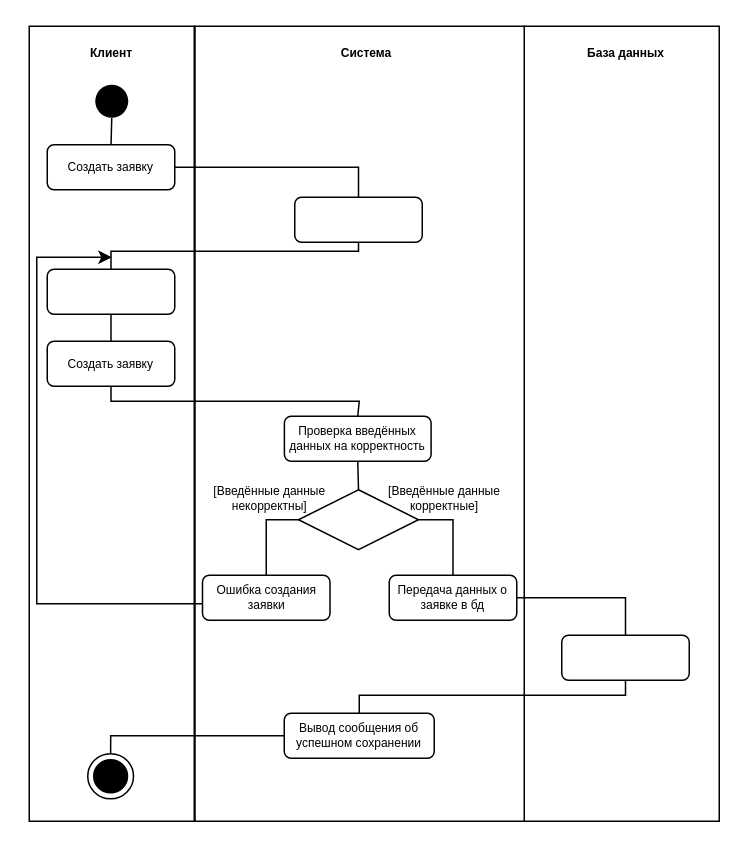
Image size: 746x848. Some labels were removed from this diagram. Each missing label, with the box of its shape:
Заполнить заявку данными: (46, 268, 175, 314)
Открыть страницу создания заявки: (293, 196, 422, 242)
Сохранение данных о создании заявки в бд: (560, 634, 689, 680)
